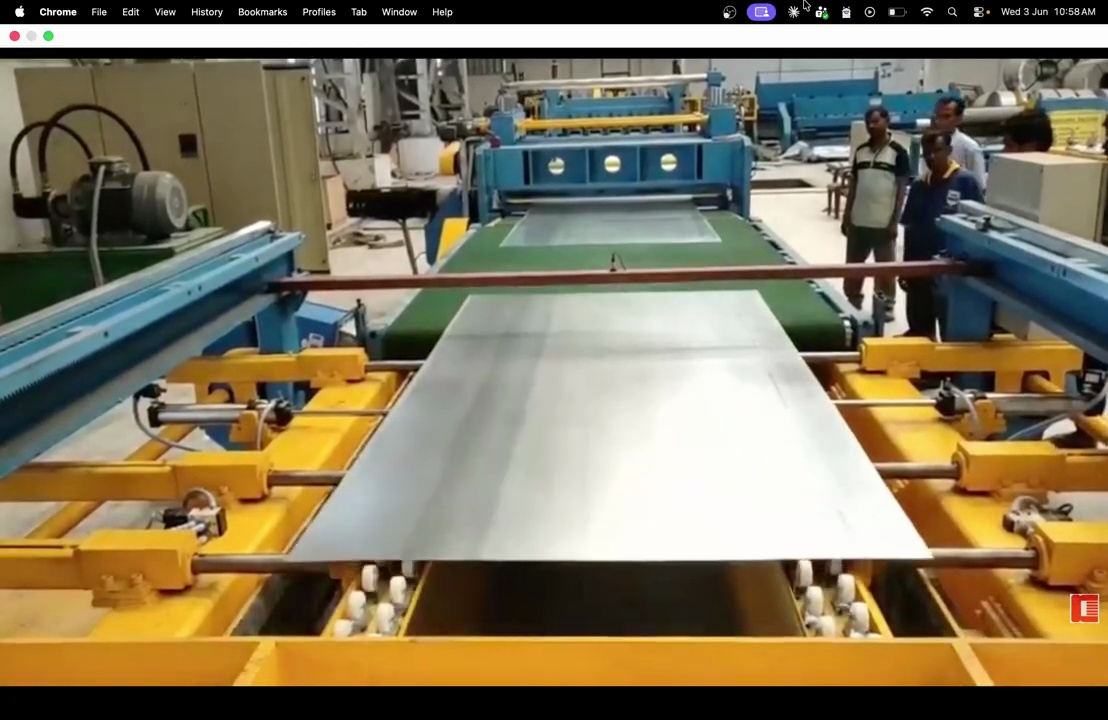steel plate: (292, 291, 928, 561), (501, 201, 719, 246)
